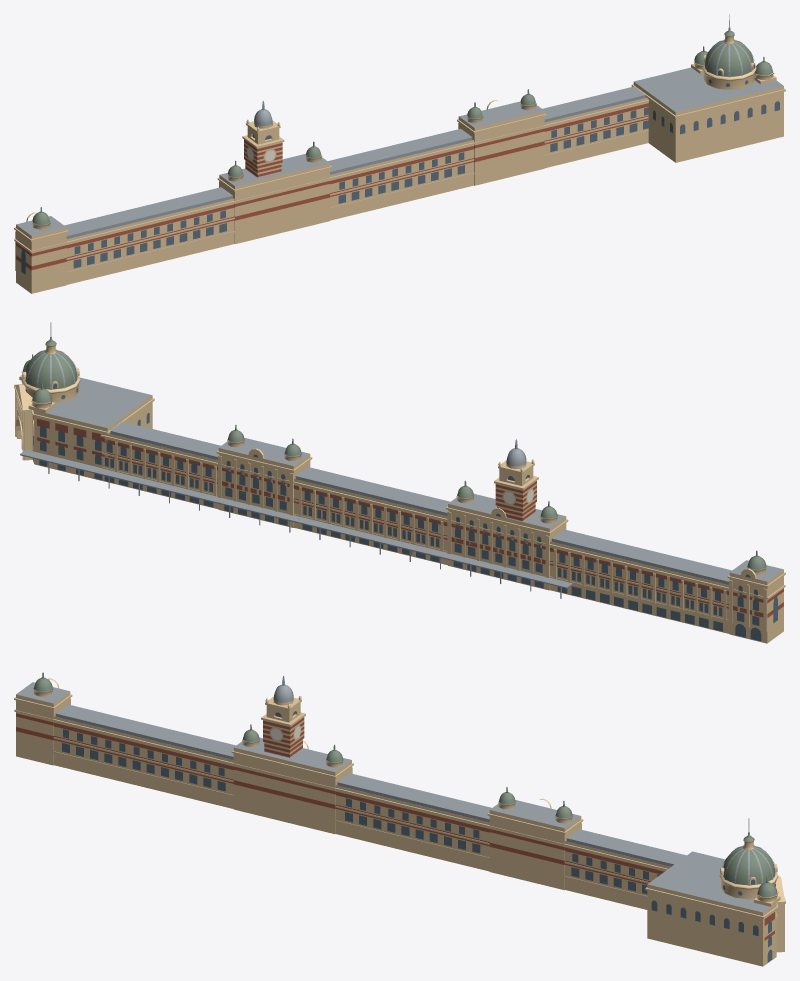
Rendered from melbourne-flinders-street-station.glb.
3 renders of one model, top to bottom at view 1: azimuth 30°, elevation 25°; view 2: azimuth 150°, elevation 25°; view 3: azimuth 330°, elevation 25°, orthographic. The views are drawn at different scales.
Parts seen in each view (by area): view 1: Flinders Street Station; view 2: Flinders Street Station; view 3: Flinders Street Station.
Boxes of the visible parts, x1,y1,x2,y2 form: Flinders Street Station: [14, 14, 785, 293]; Flinders Street Station: [14, 322, 785, 643]; Flinders Street Station: [14, 672, 785, 966].
Bounding box in the file's own units: 311 × 52 × 35.85.
